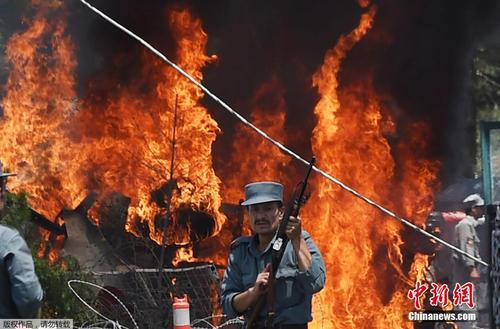fire: (2, 16, 414, 318)
